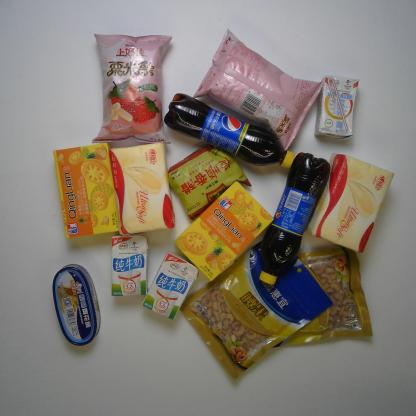Canned Food: (52, 262, 103, 347)
Dessert: (173, 180, 275, 284), (51, 140, 122, 240)
Dried Fruit: (178, 236, 336, 380), (266, 245, 374, 351)
Drink: (162, 91, 296, 170), (258, 150, 332, 287)
Milk: (142, 250, 200, 323), (312, 74, 361, 140), (109, 232, 150, 297)
Puffed Food: (192, 28, 325, 152), (90, 32, 174, 148)
Seasoner: (166, 143, 256, 223)
Tissue: (302, 151, 396, 255), (106, 141, 178, 237)
